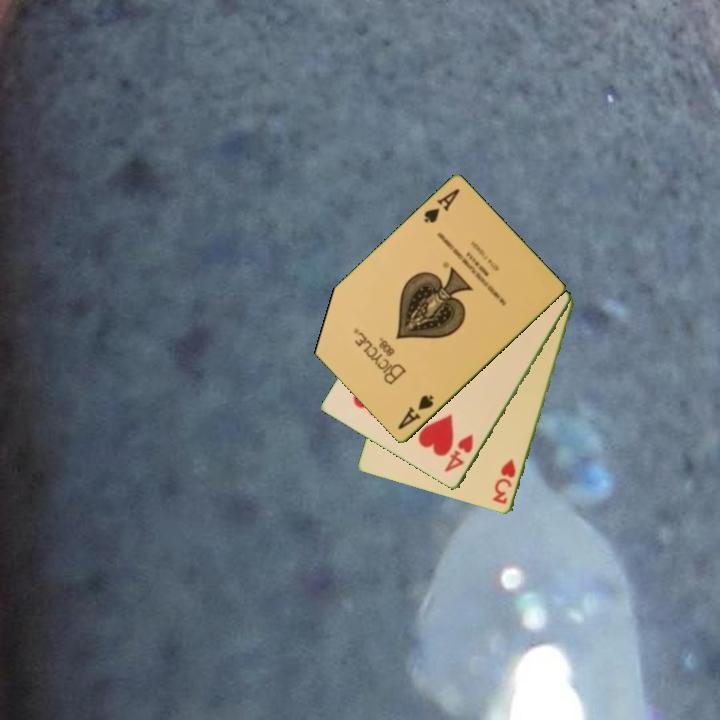3h: (489, 455, 519, 507)
4h: (441, 430, 476, 475)
As: (420, 185, 463, 226), (394, 392, 436, 433)
